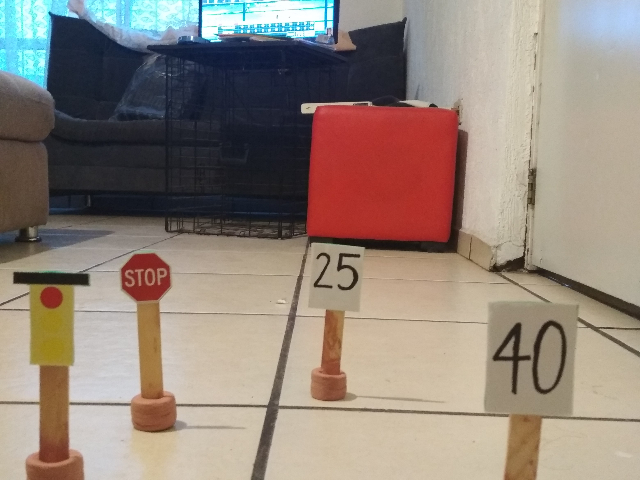Limit 25: (305, 238, 367, 316)
Limit 40: (479, 295, 581, 421)
Red: (7, 265, 96, 370)
Stop: (117, 251, 173, 304)
